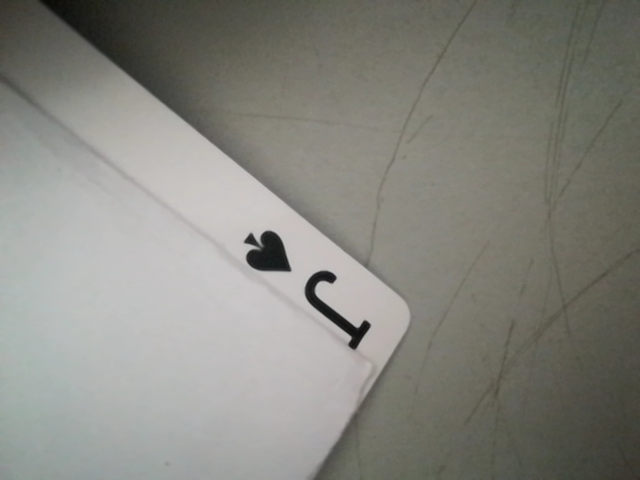ht j: (225, 224, 391, 349)
